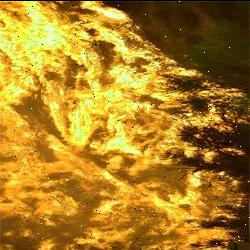fire: (1, 0, 245, 249)
